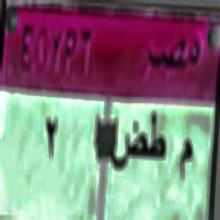2: (43, 110, 61, 166)
Taa: (146, 109, 167, 166)
daad: (111, 115, 146, 172)
meem: (176, 131, 194, 187)
